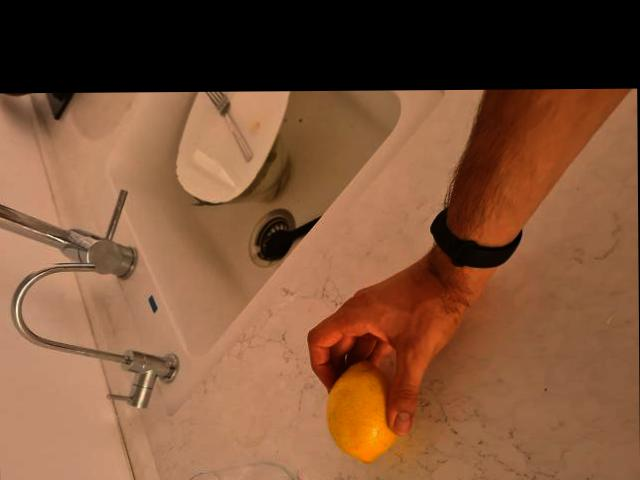lemon: (330, 363, 400, 457)
